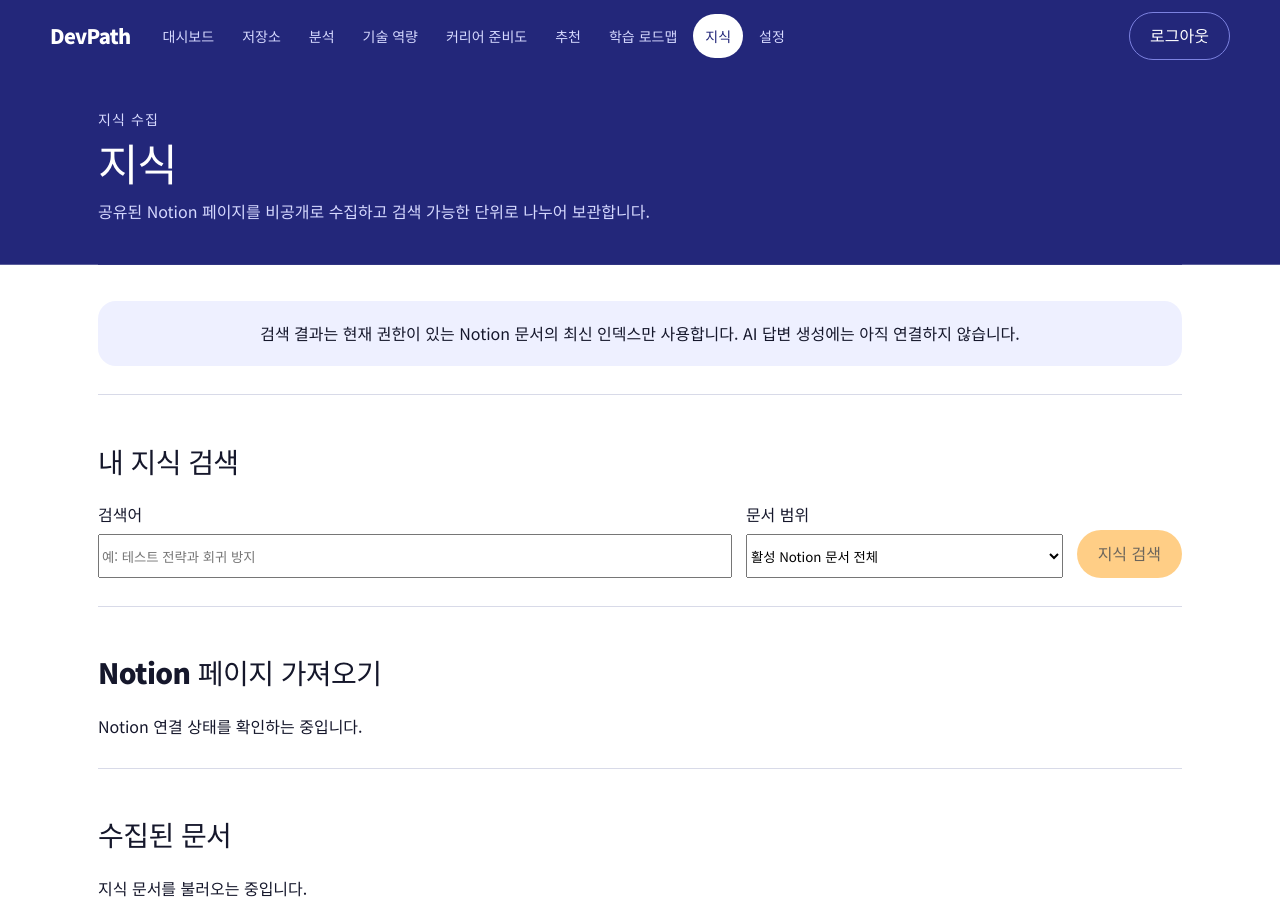
keeps search dependency errors actionable and distinguishes an authorized empty result
The width and height of the screenshot is (1280, 900).
Type "없는 지식" into the field labelled "검색어" at (415, 556), box [98,534,732,578]
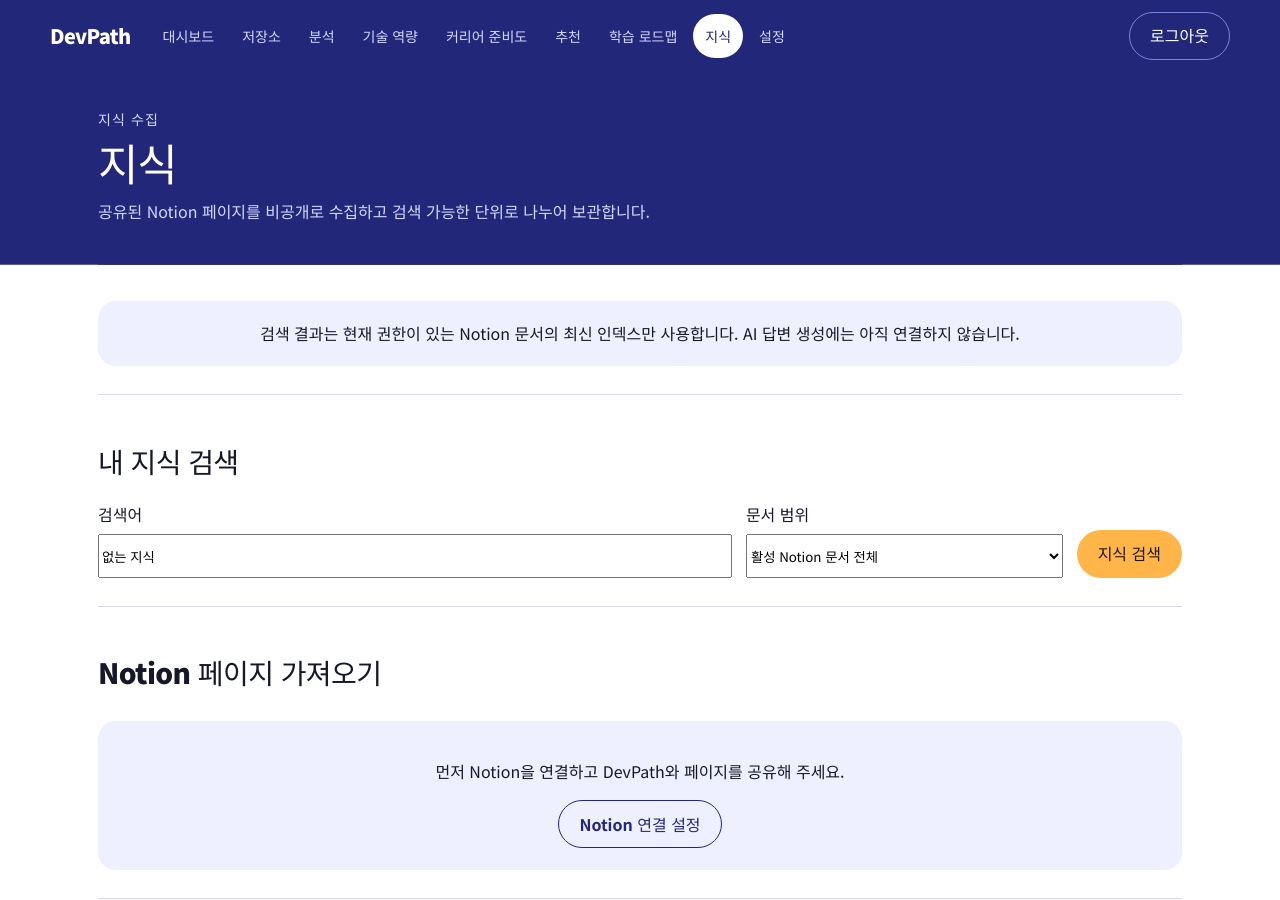
Click the button "지식 검색" at (1129, 554), box [1077,530,1182,578]
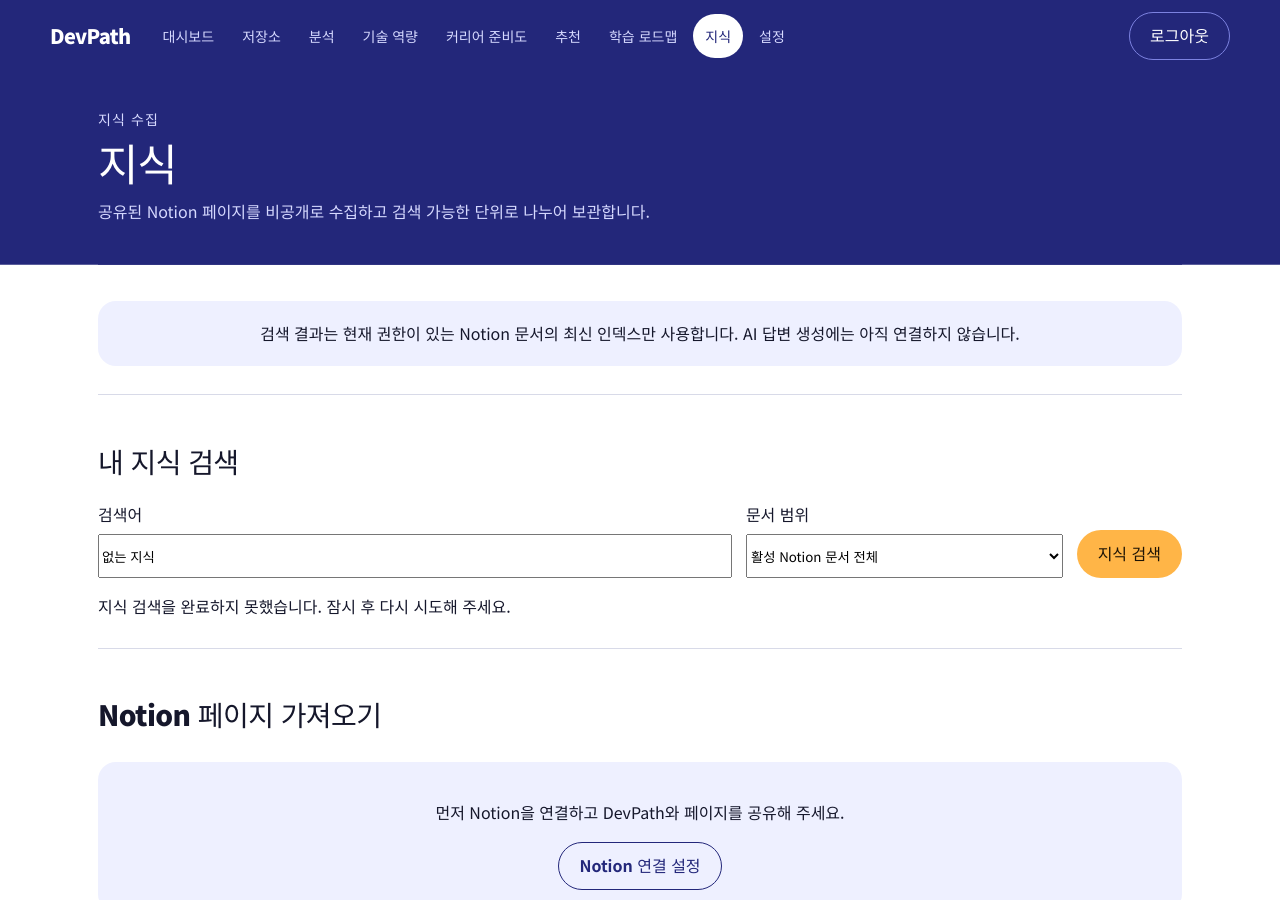
Now the message shows "지식 검색을 완료하지 못했습니다", box [98,594,511,618]
Click the button "지식 검색" at (1129, 554), box [1077,530,1182,578]
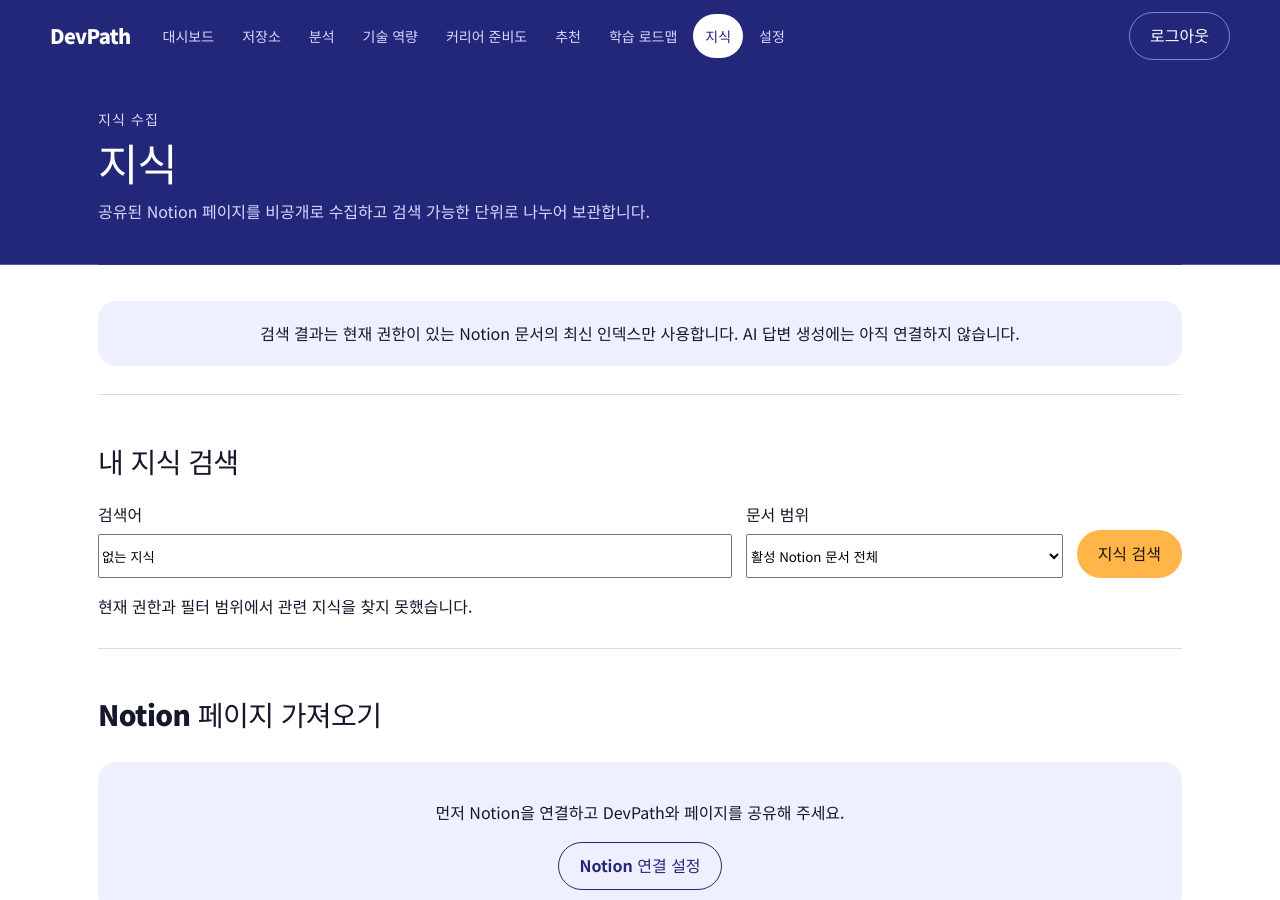
Now the message shows "관련 지식을 찾지 못했습니다", box [98,594,472,618]
